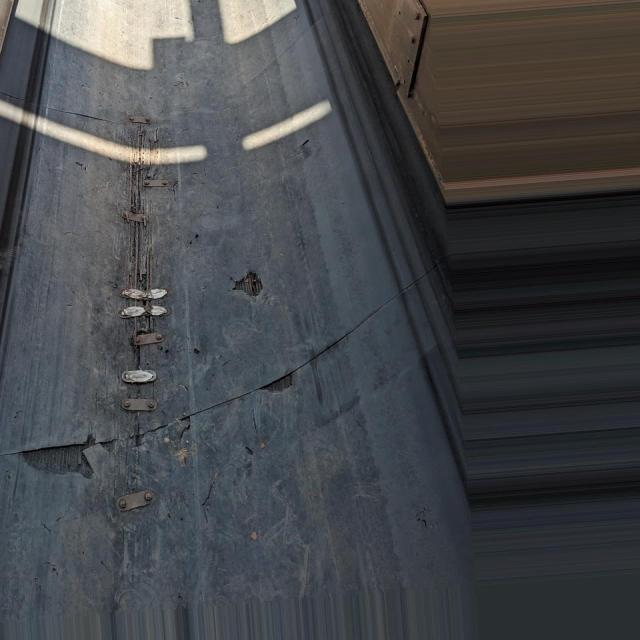Tear: (12, 301, 386, 482), (54, 98, 114, 128), (232, 259, 270, 298), (300, 135, 324, 161)
patch work: (90, 105, 190, 427), (113, 462, 164, 530)
